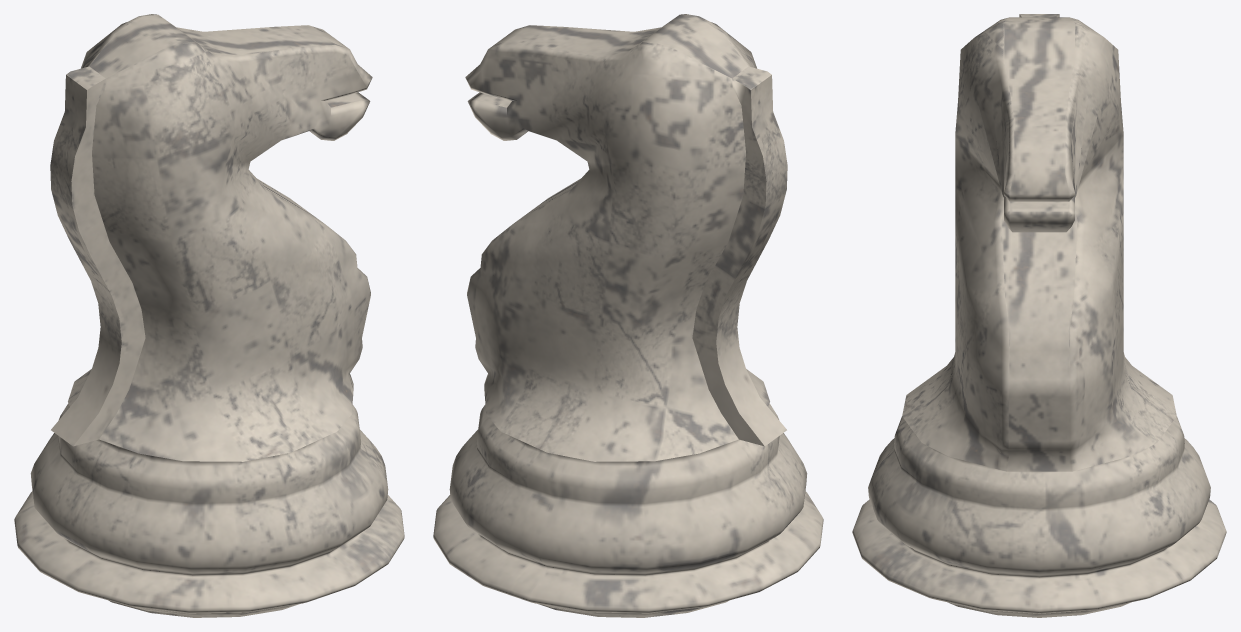
File: mermer_n_w.glb
3 renders of one model, left to right at view 1: azimuth 30°, elevation 25°; view 2: azimuth 150°, elevation 25°; view 3: azimuth 270°, elevation 25°, orthographic. The views are drawn at different scales.
Visible parts, largest first — view 1: SM_Knight; view 2: SM_Knight; view 3: SM_Knight.
Boxes of the visible parts, x1,y1,x2,y2 form: SM_Knight: (14, 14, 404, 617); SM_Knight: (433, 14, 823, 617); SM_Knight: (852, 14, 1226, 617).
Bounding box in the file's own units: 3.91 × 5.91 × 3.91.
1 material, 1 textured.
